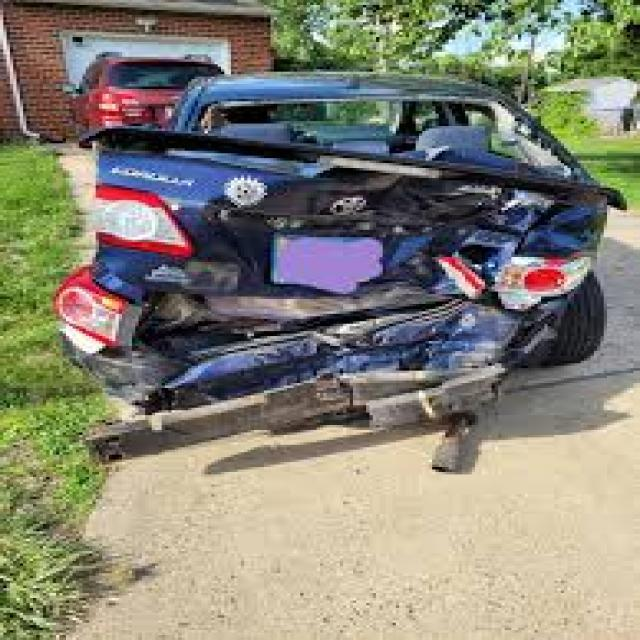damaged-trunk: (91, 128, 591, 322)
